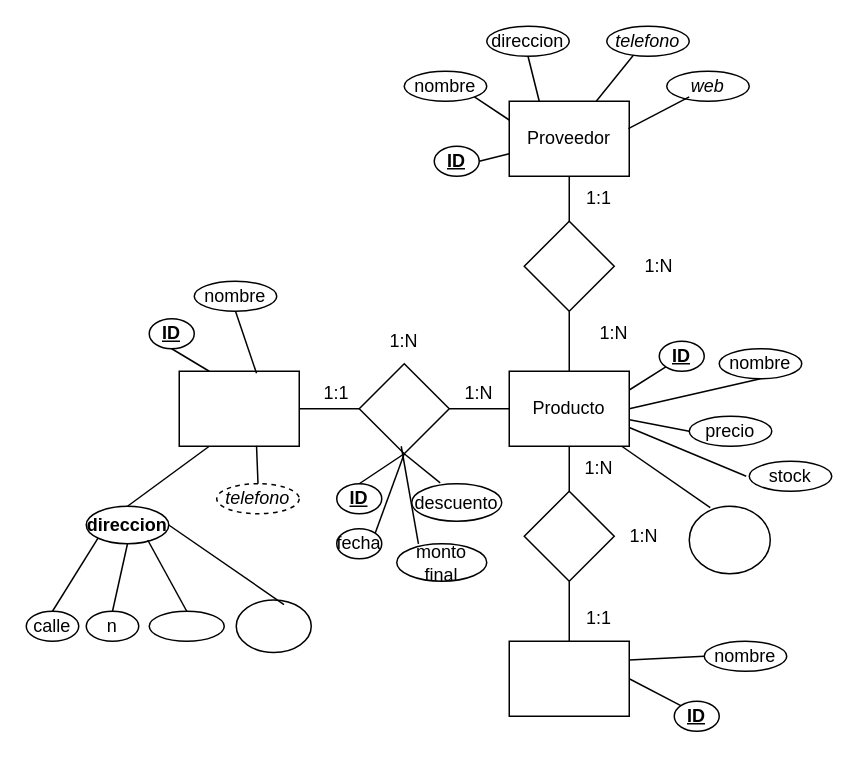
Image size: 858x758. Some labels were removed from this diagram. Each missing label, with the box of its shape:
Categoria: (508, 640, 629, 716)
ciudad: (148, 610, 224, 641)
Cliente: (178, 370, 299, 446)
comprar: (358, 362, 449, 454)
nombre de prov.: (688, 505, 770, 574)
pertenecer: (523, 490, 614, 581)
provee: (523, 220, 614, 311)
provincia: (235, 598, 311, 652)
